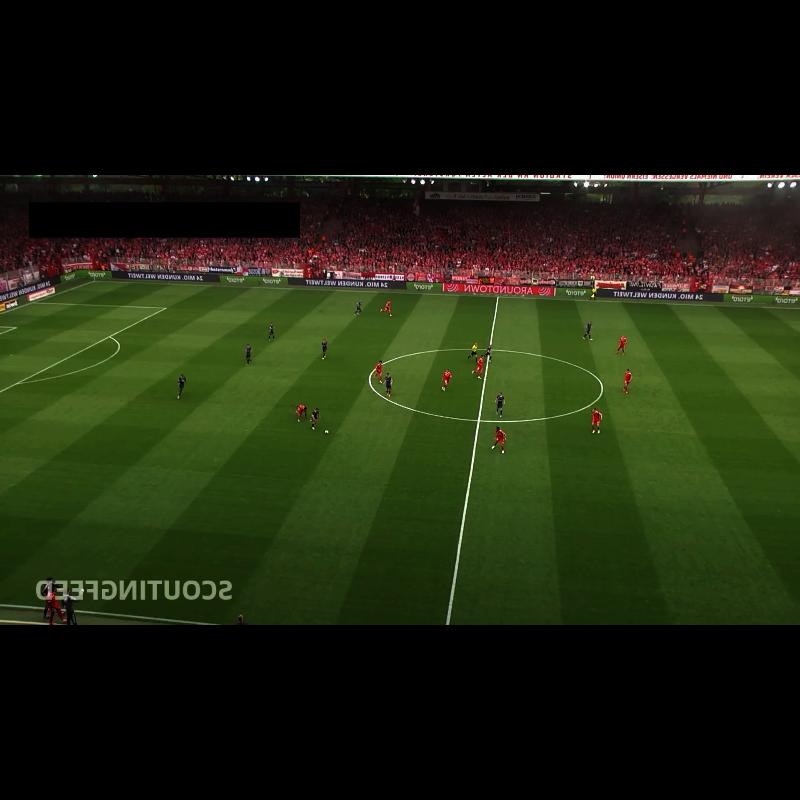cross_recipient_zone: (0, 302, 166, 392)
crossing_player_zone: (0, 455, 132, 584), (35, 281, 293, 311), (715, 306, 800, 336), (0, 457, 49, 498)
pitch: (0, 281, 800, 625)
